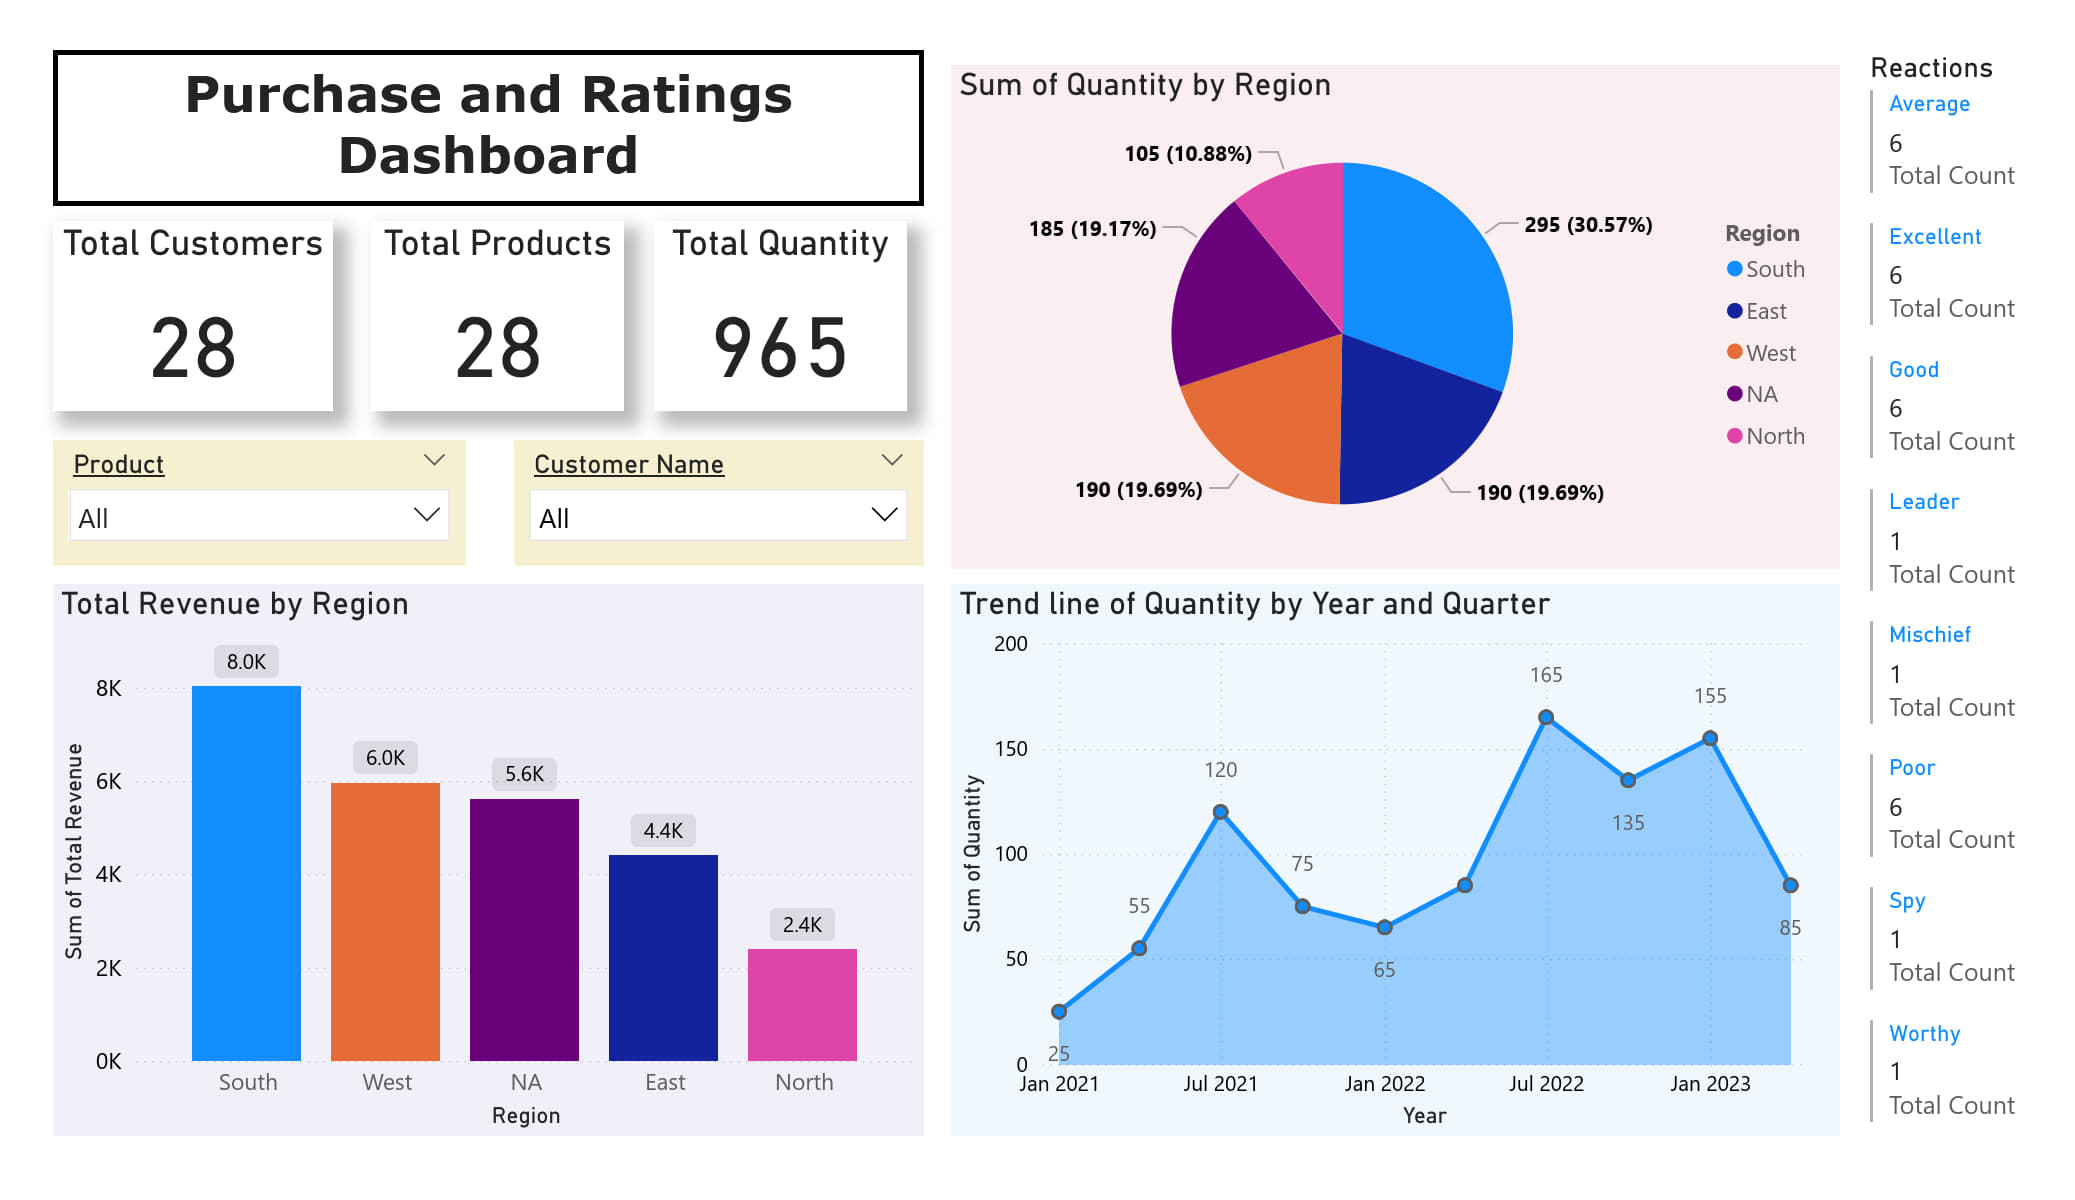

What the dashboard file says about the page in this screenshot:
{"tool":"powerbi","page":{"name":"Page 1","canvas":[1280,720],"ordinal":0},"visuals":[{"type":"card","title":"Total Customers","fields":{"Values":["Cleaned_customer_reviews.ID"]},"box":[9.6,118,179.8,120.8],"z":0},{"type":"card","title":"Total Products","fields":{"Values":["Cleaned_customer_reviews.Product"]},"box":[214.1,118,160.5,120.8],"z":1000},{"type":"card","title":"Total Quantity","fields":{"Values":["Cleaned_customer_reviews.Quantity"]},"box":[395.2,118,160.5,120.8],"z":2000},{"type":"multiRowCard","title":"Reactions","fields":{"Values":["Cleaned_customer_reviews.Rating","Cleaned_customer_reviews.ID"]},"box":[1167.8,8.2,112.5,712.2],"z":3000},{"type":"pieChart","fields":{"Y":["Cleaned_customer_reviews.Quantity"],"Category":["Cleaned_customer_reviews.Region"]},"box":[584.6,17.8,568.1,322.5],"z":4000},{"type":"clusteredColumnChart","title":"Total Revenue by Region","fields":{"Category":["Cleaned_customer_reviews.Region"],"Y":["Cleaned_customer_reviews.Total Revenue"]},"box":[9.6,349.9,557.1,352.7],"z":5000},{"type":"lineChart","title":"Trend line of  Quantity by Year and Quarter","fields":{"Y":["Cleaned_customer_reviews.Quantity"],"Category":["Cleaned_customer_reviews.Date.Variation.Date Hierarchy.Year","Cleaned_customer_reviews.Date.Variation.Date Hierarchy.Quarter"]},"box":[584.6,349.9,568.1,352.7],"z":6000},{"type":"slicer","fields":{"Values":["Cleaned_customer_reviews.Product"]},"box":[9.6,258,264.8,79.6],"z":7000},{"type":"slicer","fields":{"Values":["Cleaned_customer_reviews.Name"]},"box":[304.6,258,262.1,79.6],"z":8000},{"type":"textbox","box":[9.6,8.2,557.1,100.2],"z":9000}]}

Visuals, with their boxes on the page's 1280x720 design canvas (x1, y1, x2, y2). These are canvas units, not pixel positions in the 2075x1200 screenshot, which may show the page scaled, cropped or inside an application window:
"Total Customers" card: bbox=[10, 118, 189, 239]
"Total Products" card: bbox=[214, 118, 375, 239]
"Total Quantity" card: bbox=[395, 118, 556, 239]
"Reactions" multiRowCard: bbox=[1168, 8, 1280, 720]
pieChart - Cleaned_customer_reviews.Quantity x Cleaned_customer_reviews.Region: bbox=[585, 18, 1153, 340]
"Total Revenue by Region" clusteredColumnChart: bbox=[10, 350, 567, 703]
"Trend line of  Quantity by Year and Quarter" lineChart: bbox=[585, 350, 1153, 703]
slicer - Cleaned_customer_reviews.Product: bbox=[10, 258, 274, 338]
slicer - Cleaned_customer_reviews.Name: bbox=[305, 258, 567, 338]
textbox: bbox=[10, 8, 567, 108]
